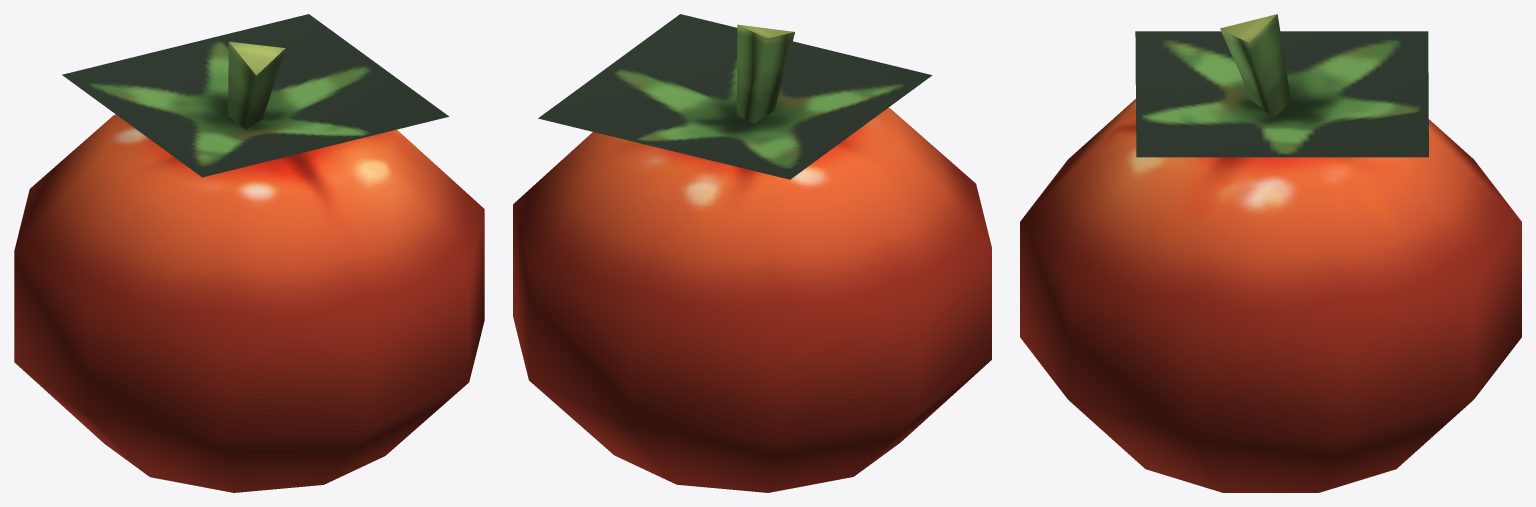
The model's file is plant_tomato.gltf.
3 renders of one model, left to right at view 1: azimuth 30°, elevation 25°; view 2: azimuth 150°, elevation 25°; view 3: azimuth 270°, elevation 25°, orthographic. The views are drawn at different scales.
Parts seen in each view (by area): view 1: plant_tomato; view 2: plant_tomato; view 3: plant_tomato.
Part boxes in pixels (x1=…): plant_tomato: x1=14, y1=14, x2=484, y2=492; plant_tomato: x1=513, y1=14, x2=991, y2=492; plant_tomato: x1=1020, y1=14, x2=1521, y2=492.
Size of the model in its own units: 0.0839 by 0.086 by 0.0882.
1 material, 1 textured.
